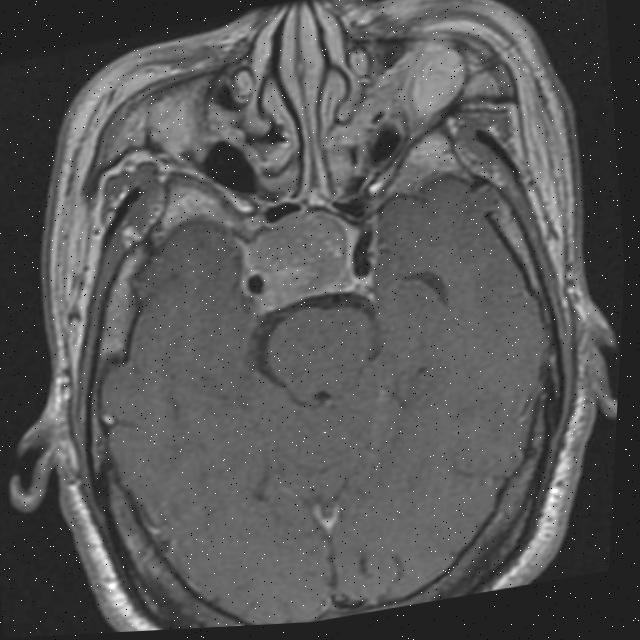Pituitary: (237, 204, 360, 313)
